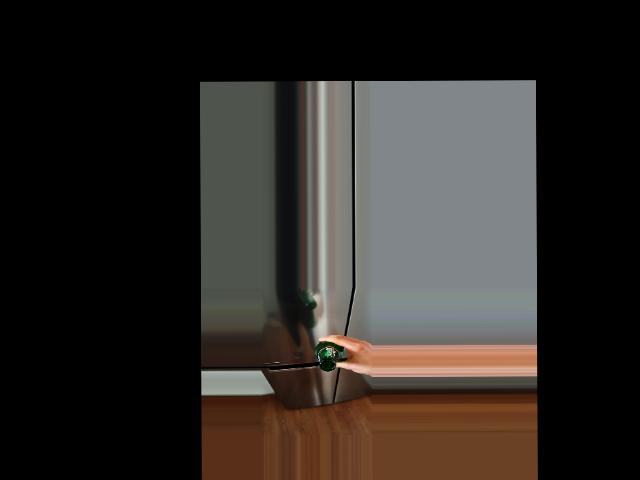beer: (314, 341, 343, 371)
